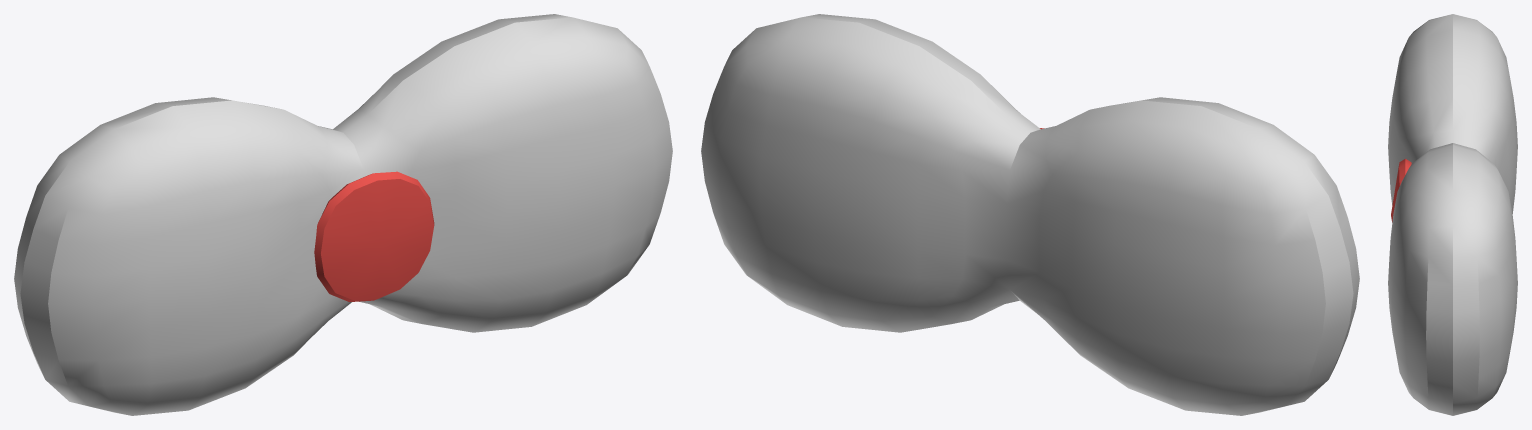
Rendered from Ribon.fbx.
3 views of the same model, side by side, from view 1: azimuth 30°, elevation 25°; view 2: azimuth 150°, elevation 25°; view 3: azimuth 270°, elevation 25° (orthographic). The views are drawn at different scales.
Visible parts, largest first — view 1: Cube.011; view 2: Cube.011; view 3: Cube.011.
Part boxes in pixels (x1=…): Cube.011: x1=14, y1=14, x2=672, y2=415; Cube.011: x1=701, y1=14, x2=1359, y2=415; Cube.011: x1=1388, y1=14, x2=1517, y2=415.
Bounding box in the file's own units: 187 × 83.33 × 41.13.
